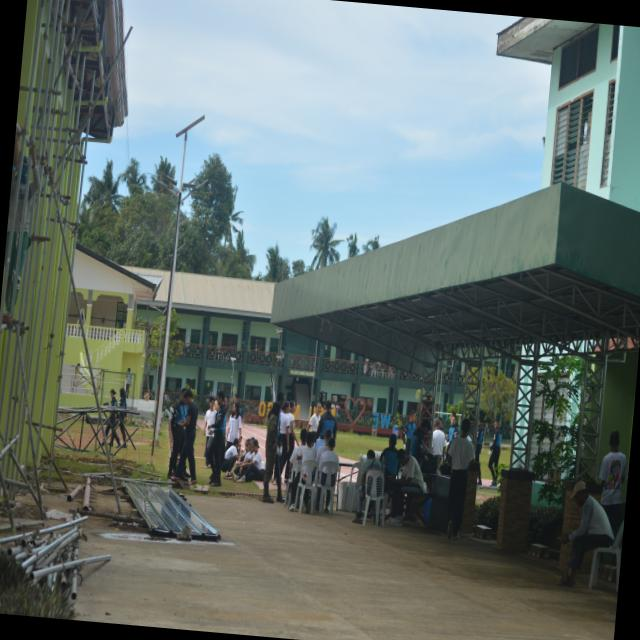person: (558, 482, 613, 586), (447, 419, 475, 539), (599, 431, 627, 535), (390, 450, 426, 526), (173, 389, 198, 485), (353, 450, 381, 523), (263, 402, 281, 503), (210, 391, 227, 487), (319, 438, 339, 513), (488, 420, 502, 486), (226, 402, 242, 448), (475, 420, 484, 485)
